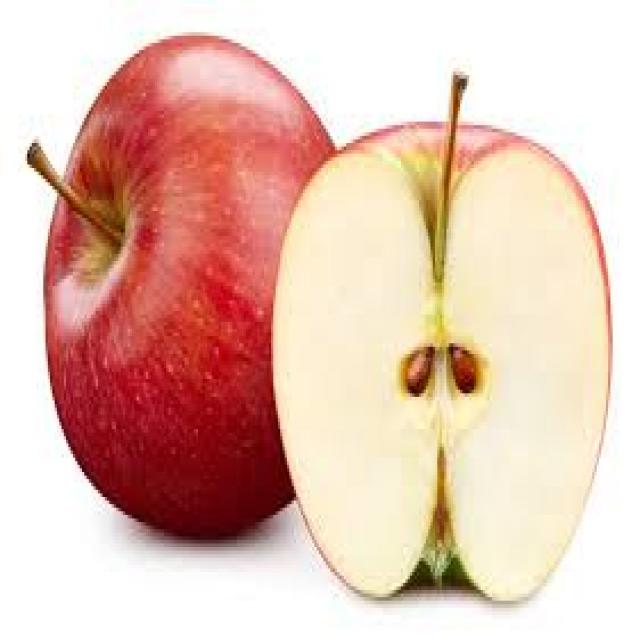Apple: (272, 118, 612, 604), (44, 31, 301, 535)
